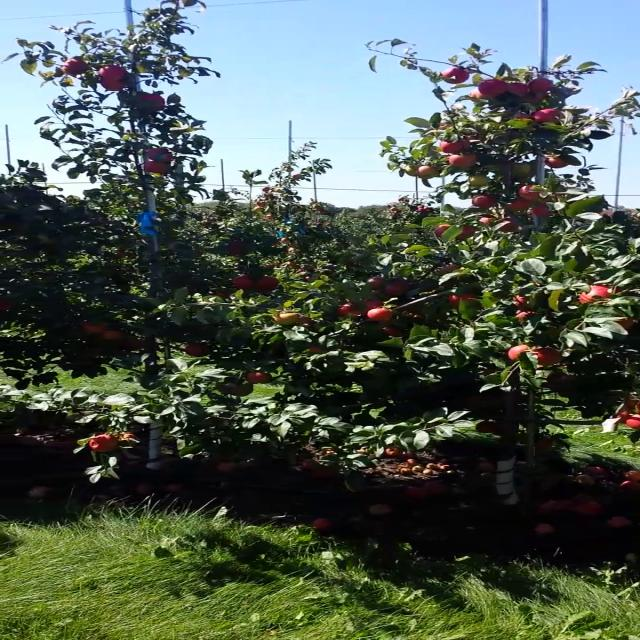apple: (578, 283, 610, 304), (530, 348, 562, 366), (88, 434, 118, 452), (477, 79, 507, 96), (441, 66, 469, 84), (381, 280, 411, 296), (140, 93, 166, 110), (506, 344, 530, 362), (60, 58, 86, 74), (99, 64, 125, 80), (366, 308, 392, 324), (448, 154, 476, 168), (335, 302, 363, 316), (186, 342, 212, 357), (447, 293, 474, 307), (100, 77, 126, 91), (146, 148, 172, 162), (503, 197, 533, 209), (232, 275, 257, 289), (532, 108, 556, 122), (510, 162, 531, 178), (516, 184, 540, 198), (471, 194, 495, 208), (364, 276, 388, 290), (230, 383, 253, 397), (454, 225, 475, 240), (543, 156, 569, 168), (273, 313, 299, 325), (612, 315, 634, 329), (521, 90, 546, 102), (530, 203, 551, 217), (475, 420, 496, 434), (528, 78, 552, 90), (255, 276, 279, 288), (507, 82, 529, 95), (498, 218, 518, 232), (439, 141, 461, 153), (145, 161, 167, 173), (214, 382, 236, 394), (623, 393, 639, 409), (468, 90, 489, 102), (433, 224, 451, 238), (515, 309, 536, 321), (379, 327, 401, 338), (82, 322, 106, 332), (404, 164, 422, 177), (246, 371, 264, 384), (477, 214, 496, 226), (100, 329, 122, 339), (418, 165, 436, 177), (615, 409, 629, 424), (626, 414, 639, 430), (468, 176, 488, 186), (365, 297, 383, 308), (126, 337, 145, 347), (452, 140, 470, 150), (511, 295, 526, 307), (0, 298, 14, 310), (258, 372, 272, 384), (548, 374, 575, 380), (297, 316, 312, 324), (515, 114, 533, 120), (308, 346, 324, 352), (635, 402, 639, 412)
